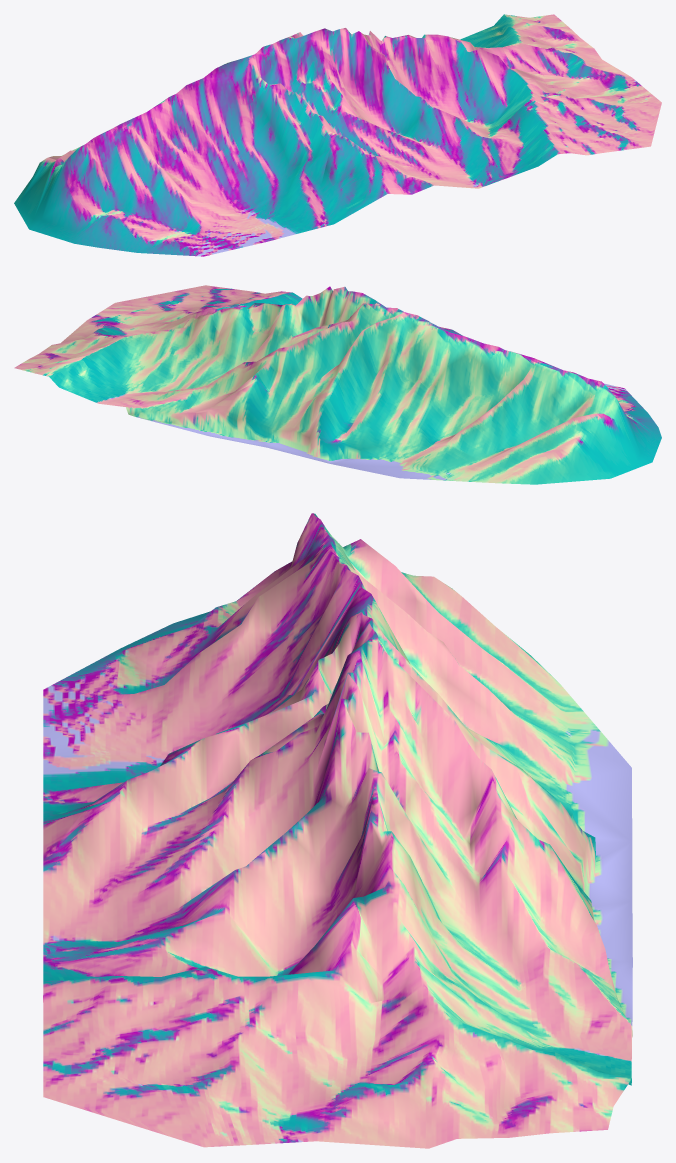
Rendered from Mountain4.fbx.
The picture shows the model from 3 angles, top to bottom: view 1: azimuth 30°, elevation 25°; view 2: azimuth 150°, elevation 25°; view 3: azimuth 270°, elevation 25°; orthographic projection. The views are drawn at different scales.
Parts seen in each view (by area): view 1: Mountain4; view 2: Mountain4; view 3: Mountain4.
Part boxes in pixels (<box>): Mountain4: <box>14,14,661,256</box>; Mountain4: <box>14,285,661,484</box>; Mountain4: <box>43,513,632,1148</box>.
Bounding box in the file's own units: 25975 × 5176 × 11735.
